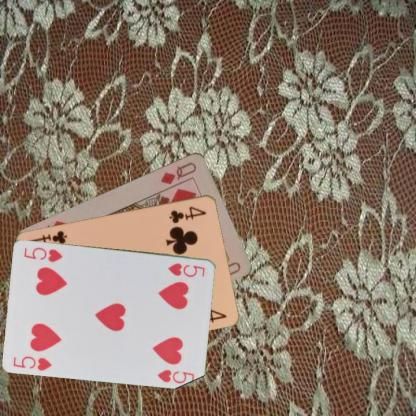4c: (166, 203, 208, 224)
5h: (11, 353, 53, 372), (166, 260, 206, 278)
Qd: (157, 159, 198, 185)
